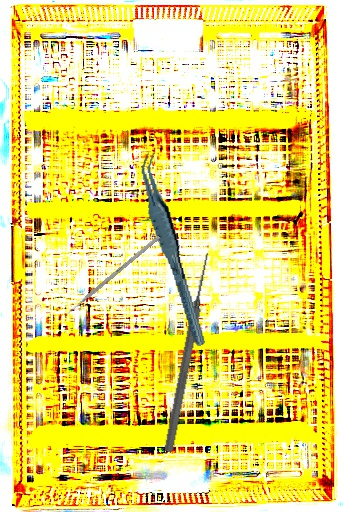Pusher: (162, 252, 214, 453), (59, 235, 161, 321)
Tissue Forceps: (136, 147, 208, 351)
